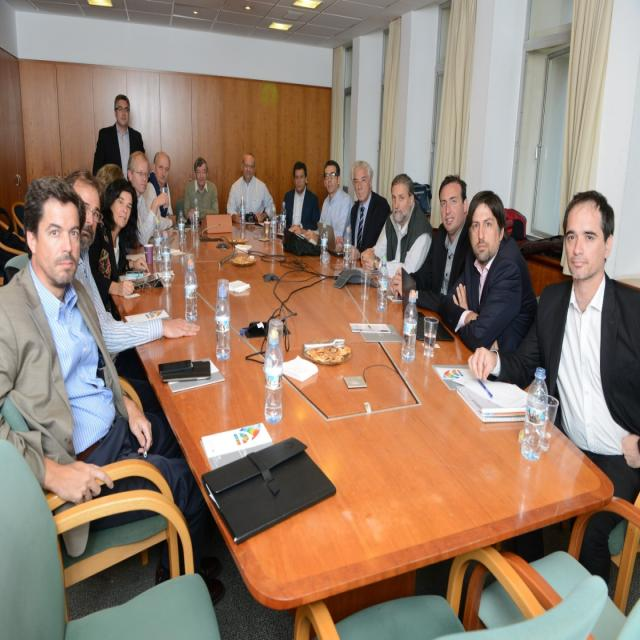body: (0, 171, 231, 612), (466, 187, 640, 581), (436, 189, 539, 355), (389, 173, 472, 315), (87, 178, 150, 322), (88, 178, 154, 313), (360, 173, 433, 290), (286, 158, 354, 250), (333, 160, 391, 262), (92, 94, 146, 182), (126, 150, 170, 246), (226, 154, 276, 223), (282, 159, 321, 235), (142, 150, 177, 230), (182, 156, 220, 226), (95, 161, 126, 204)
